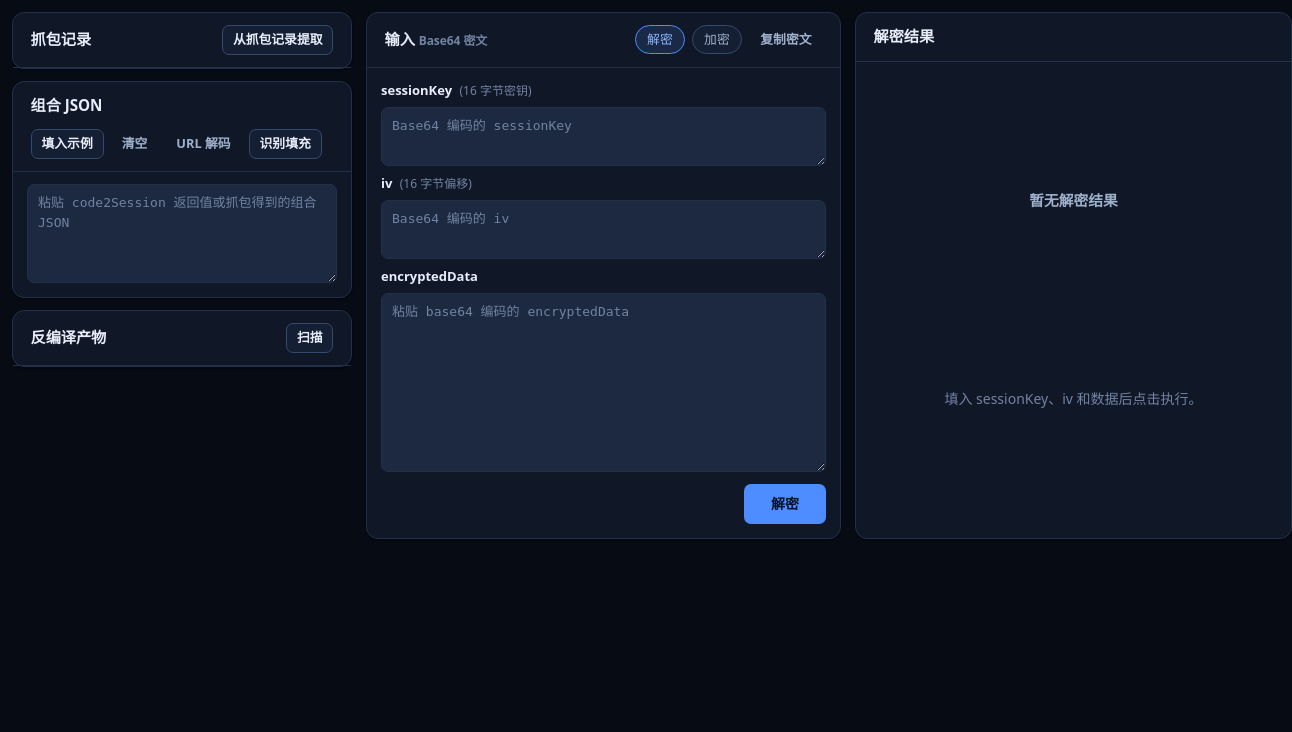
SessionKeyView › shows error when inputs are empty
Click the button with test id "run-crypto" at [785, 504], box [744, 484, 826, 524]
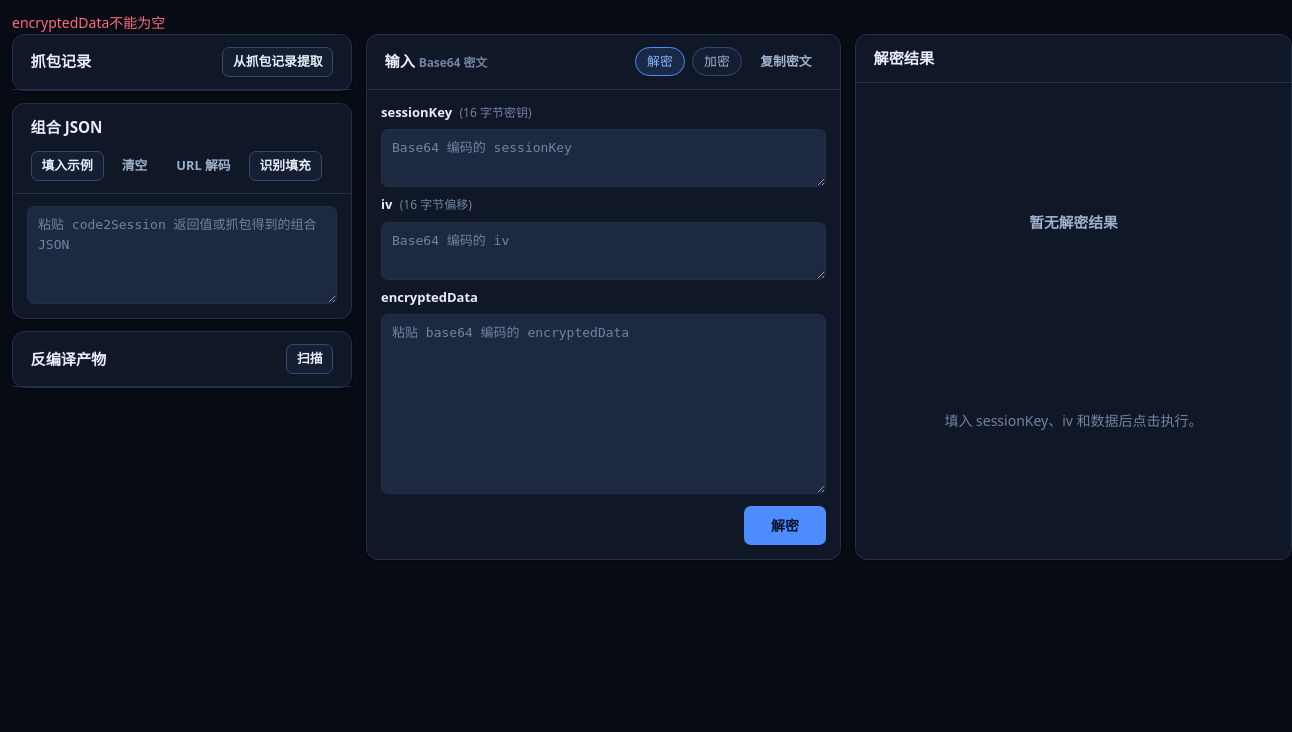
Now the message with test id "sessionkey-error" is shown, box [12, 13, 165, 32]
